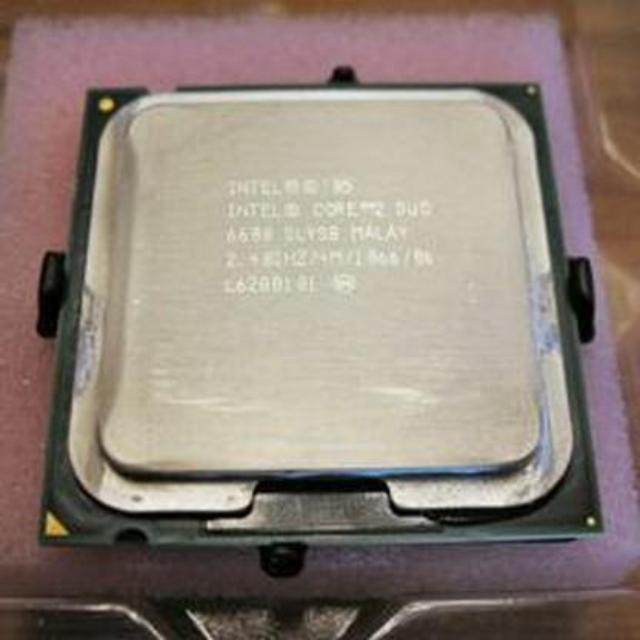CPU: (43, 96, 592, 533)
